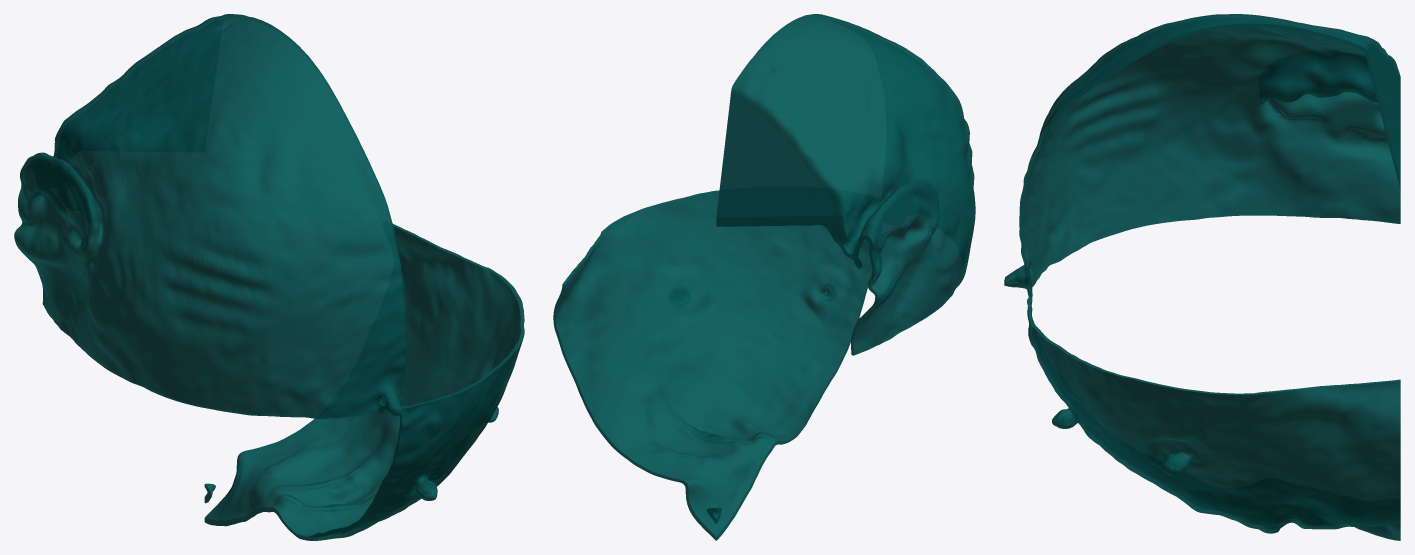
Rendered from Scalp_quadrants.obj.
3 renders of one model, left to right at view 1: azimuth 30°, elevation 25°; view 2: azimuth 150°, elevation 25°; view 3: azimuth 270°, elevation 25°, orthographic. The views are drawn at different scales.
Visible parts, largest first — view 1: grp1; view 2: grp1; view 3: grp1.
Boxes of the visible parts, x1,y1,x2,y2 form: grp1: (14, 14, 524, 540); grp1: (553, 14, 975, 540); grp1: (1004, 14, 1400, 540).
Bounding box in the file's own units: 171 × 221 × 154.
